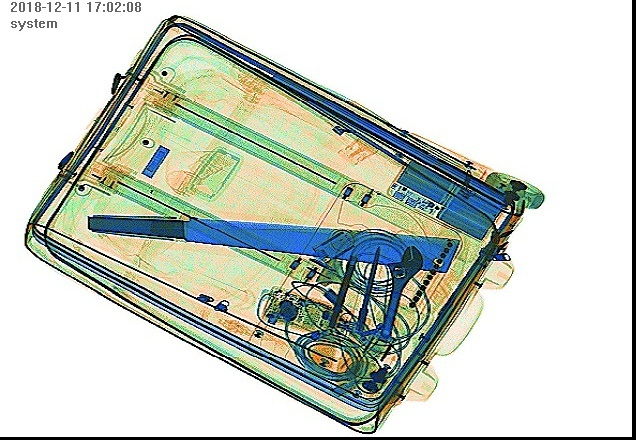powerbank: (383, 154, 505, 240)
